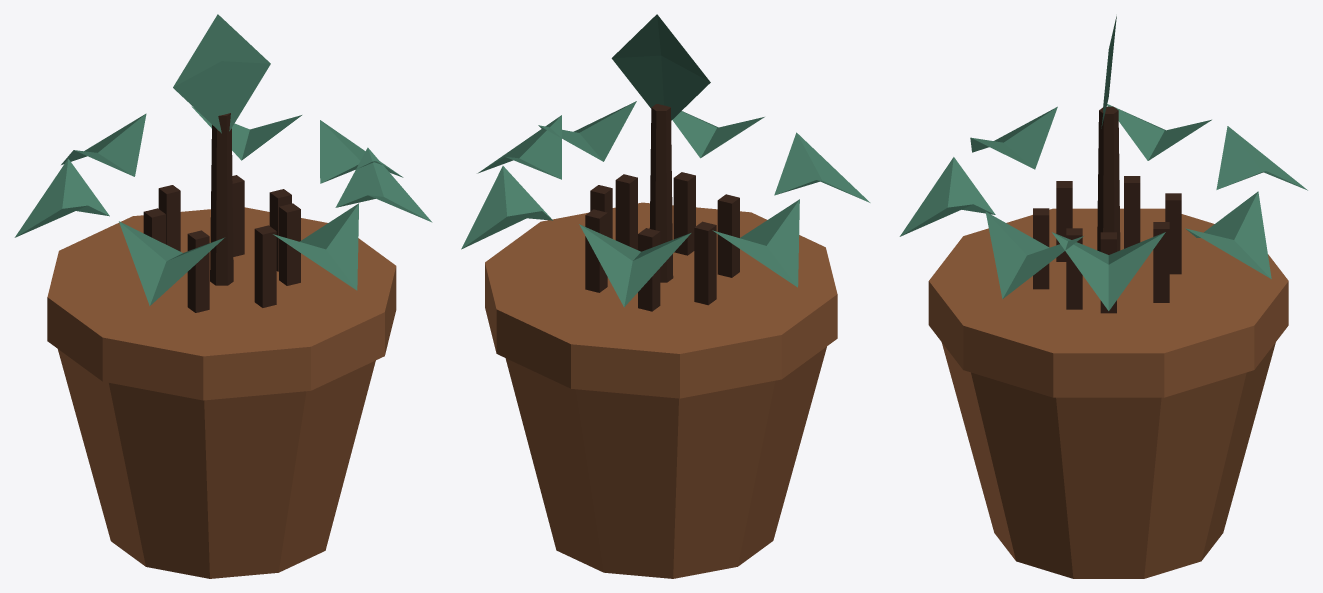
File: Plant.fbx
The picture shows the model from 3 angles, left to right: view 1: azimuth 30°, elevation 25°; view 2: azimuth 150°, elevation 25°; view 3: azimuth 270°, elevation 25°; orthographic projection.
Parts seen in each view (by area): view 1: Plant_Mesh; view 2: Plant_Mesh; view 3: Plant_Mesh.
Part boxes in pixels (left/top/right/bottom): Plant_Mesh: left=14, top=14, right=432, bottom=578; Plant_Mesh: left=461, top=14, right=870, bottom=578; Plant_Mesh: left=899, top=16, right=1307, bottom=578.
Bounding box in the file's own units: 50.43 × 70 × 50.04.
